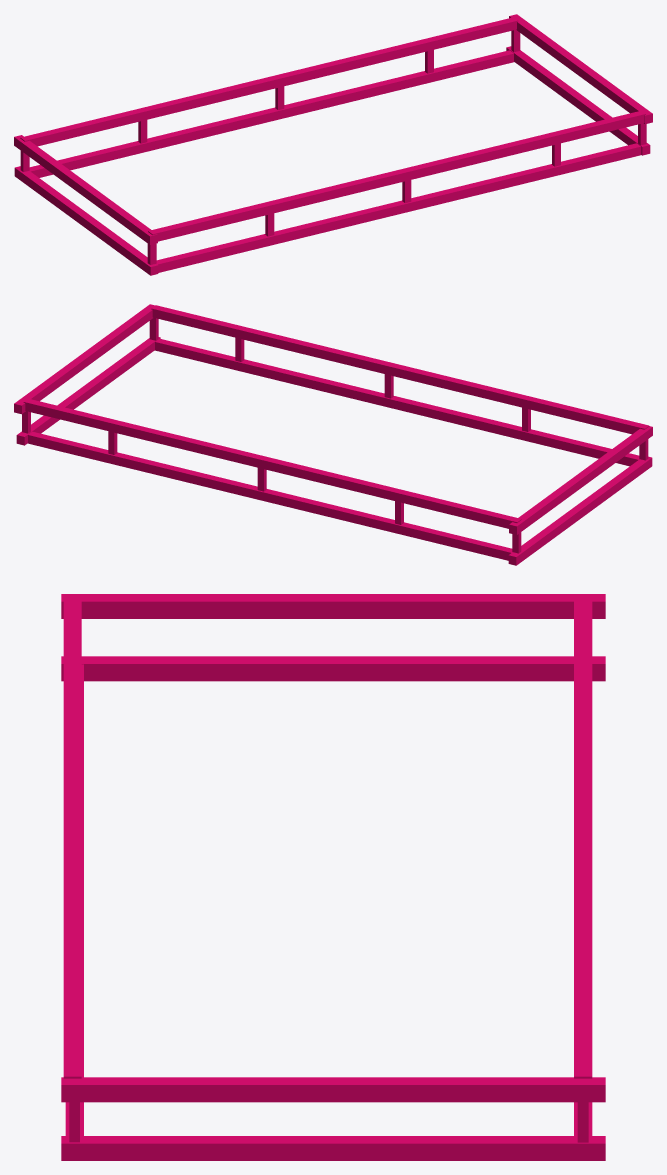
The model's file is Modular_Cabin_01_Base.fbx.
The picture shows the model from 3 angles, top to bottom: view 1: azimuth 30°, elevation 25°; view 2: azimuth 150°, elevation 25°; view 3: azimuth 270°, elevation 25°; orthographic projection. The views are drawn at different scales.
Parts seen in each view (by area): view 1: Modular_Cabin_01_Base; view 2: Modular_Cabin_01_Base; view 3: Modular_Cabin_01_Base.
Part boxes in pixels (x1,y1,x2,y2): Modular_Cabin_01_Base: (14, 14, 652, 275); Modular_Cabin_01_Base: (14, 304, 652, 565); Modular_Cabin_01_Base: (61, 594, 605, 1160).
Bounding box in the file's own units: 822 × 63.5 × 385.
